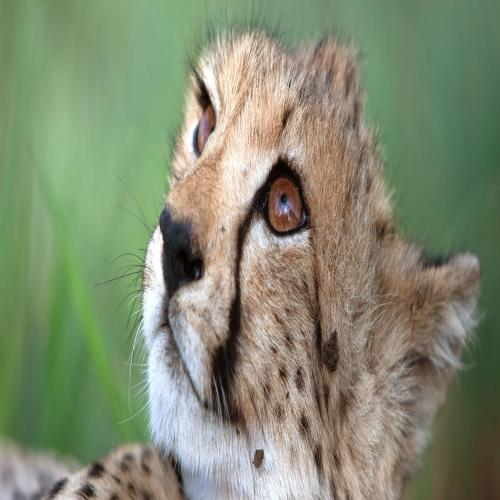cheetah-endangered: (103, 29, 451, 486)
